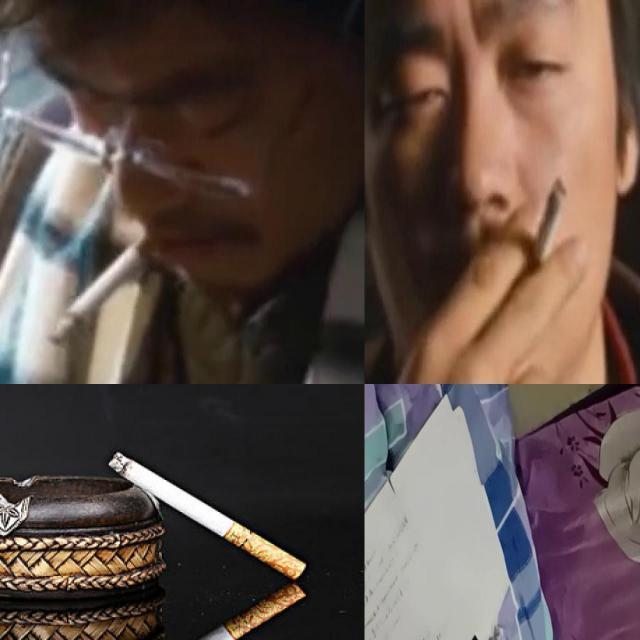cigarette: (106, 449, 308, 582), (44, 236, 154, 346), (520, 176, 568, 285)
